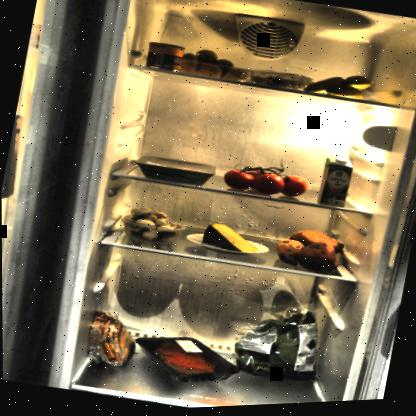banana: (301, 66, 373, 108)
beef: (125, 324, 246, 400)
cheese: (199, 218, 265, 262)
corn: (142, 39, 190, 79)
heavy_cream: (315, 156, 354, 212)
mushrooms: (118, 203, 185, 250)
potato: (172, 44, 256, 89)
shrimp: (247, 71, 320, 100)
spinach: (226, 302, 331, 393)
sweet_potato: (270, 224, 350, 280)
tomato: (215, 149, 313, 209)
